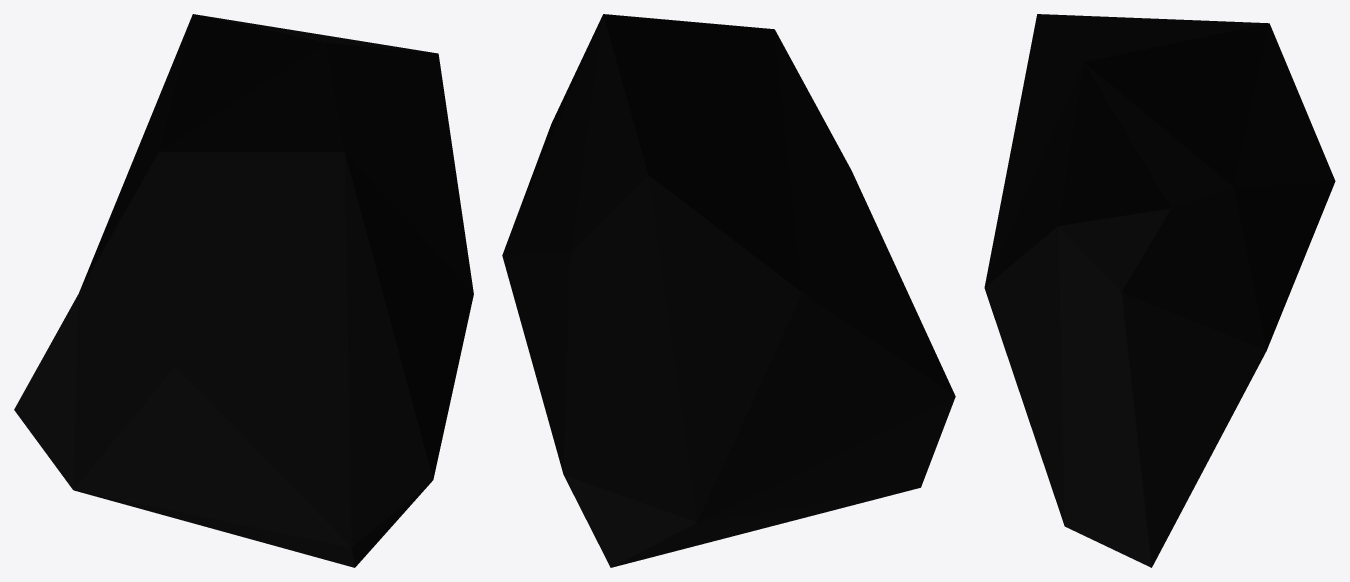
The picture shows the model from 3 angles, left to right: view 1: azimuth 30°, elevation 25°; view 2: azimuth 150°, elevation 25°; view 3: azimuth 270°, elevation 25°; orthographic projection. The views are drawn at different scales.
Bounding box in the file's own units: 0.473 × 0.5748 × 0.3625.
1 material, 1 textured.
